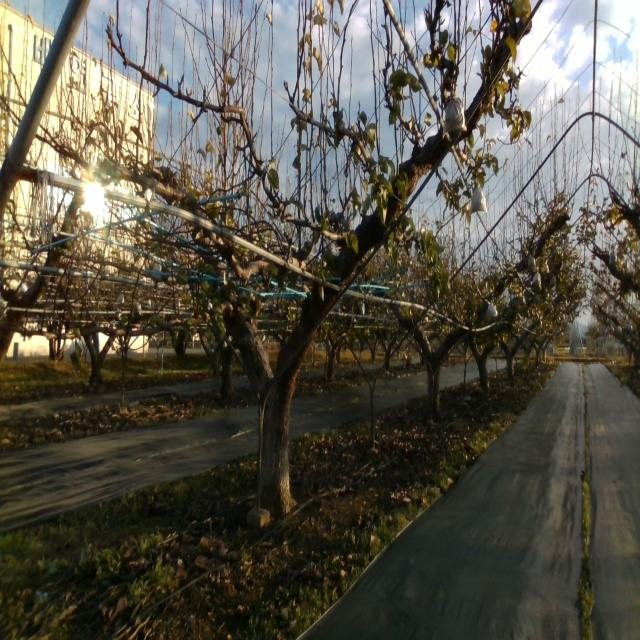pearbags: (441, 95, 469, 146), (468, 183, 488, 215), (530, 270, 542, 292), (487, 299, 498, 323)
